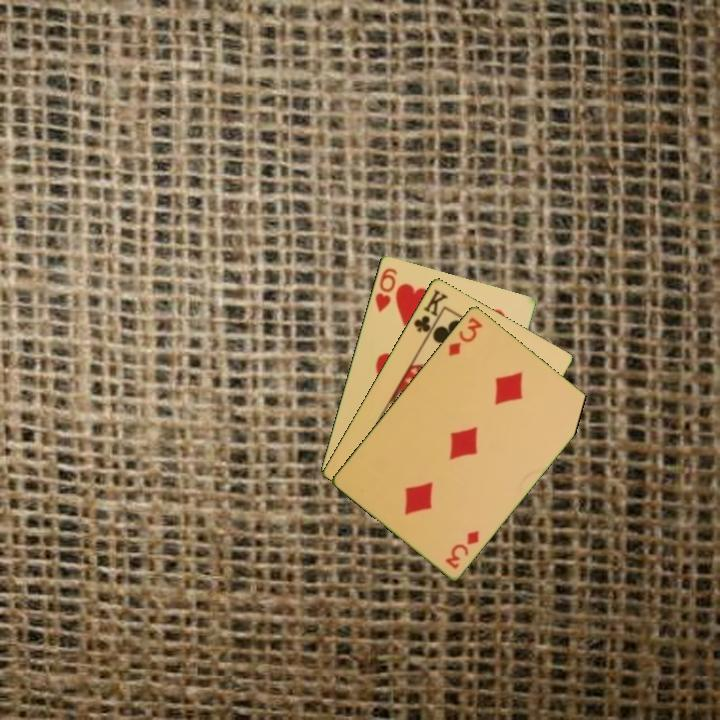3d: (441, 526, 482, 572), (445, 313, 485, 359)
6h: (371, 264, 400, 315)
Kc: (410, 286, 451, 341)
